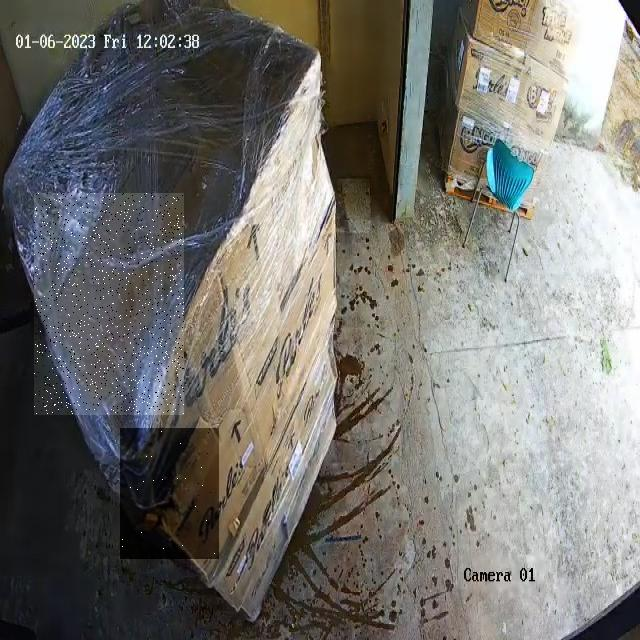leakage: (120, 430, 219, 559)
squeeze: (34, 193, 184, 414)
